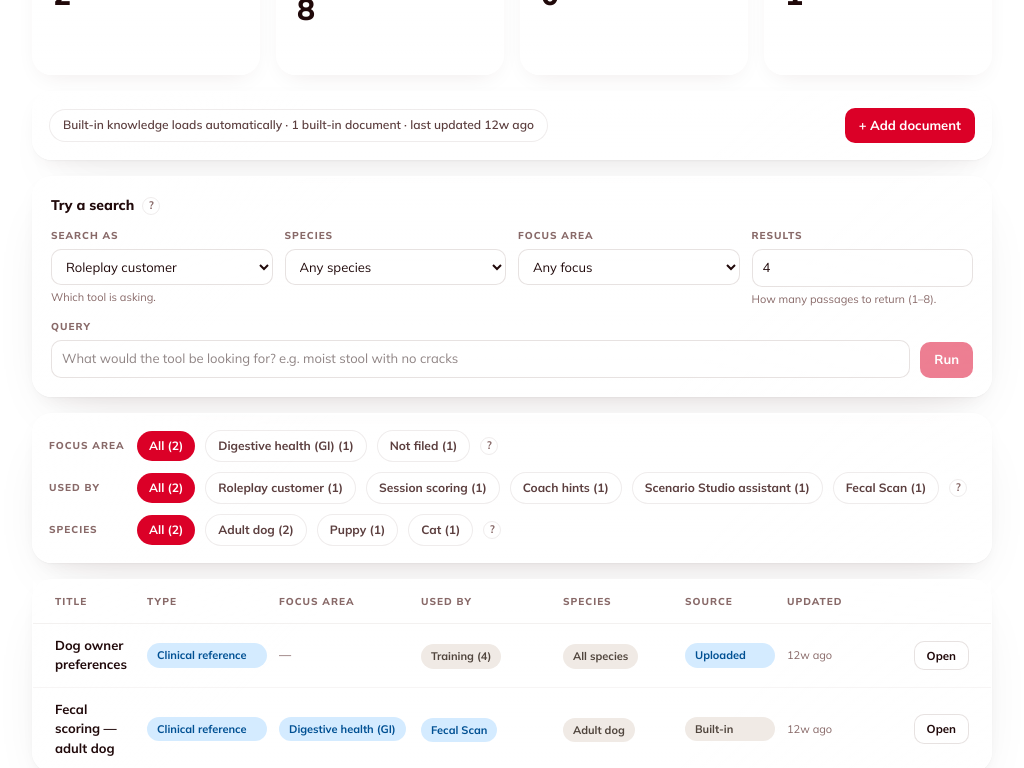
Scenario: the document editor › keeps the document text folded away until it is asked for
(page scrolled)
Click the text "Fecal scoring — adult dog".
click(86, 728)  # box [55, 701, 117, 756]
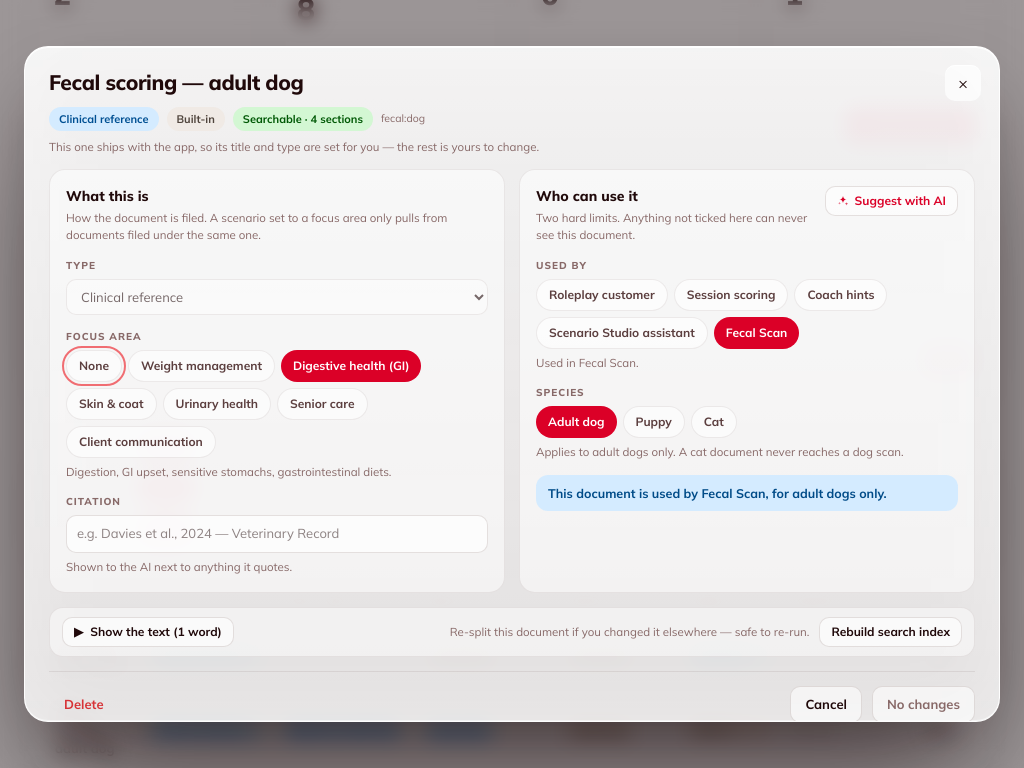
Click the button "▶ Show the text (1 word)".
click(148, 632)  # box [62, 616, 234, 646]
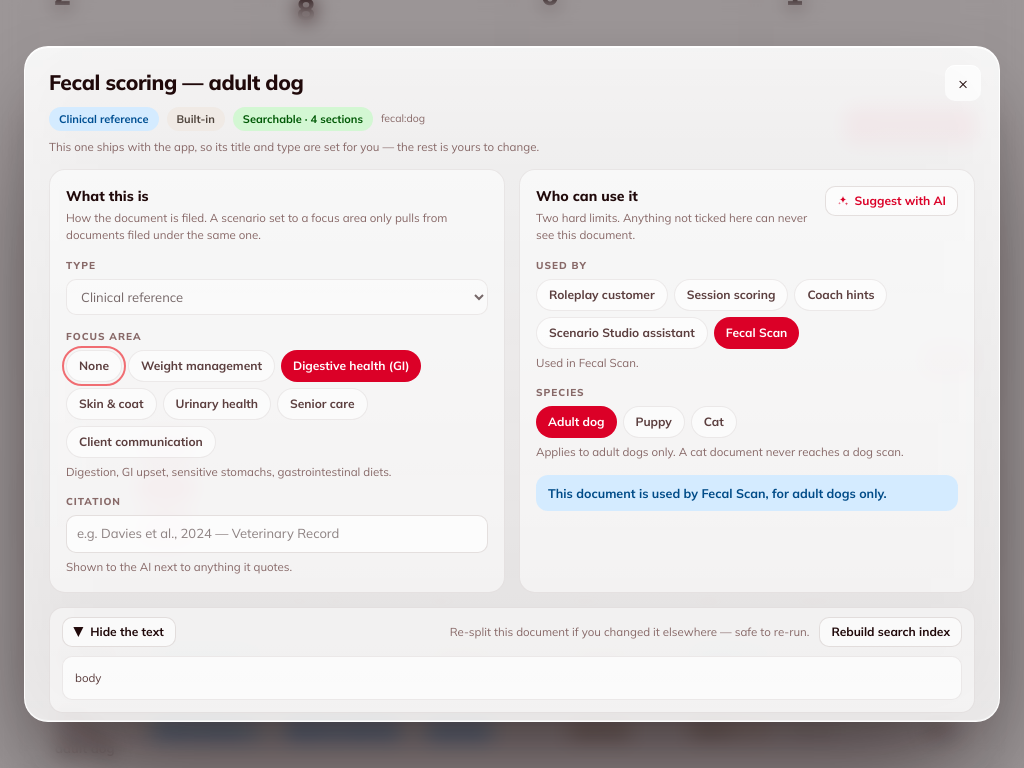
Check: the text "body" is shown, box [62, 656, 962, 700]
